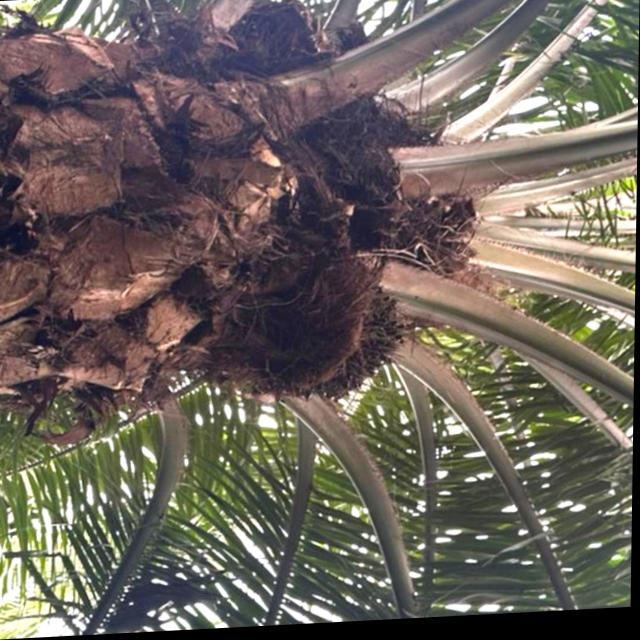unripe: (232, 281, 411, 416)
